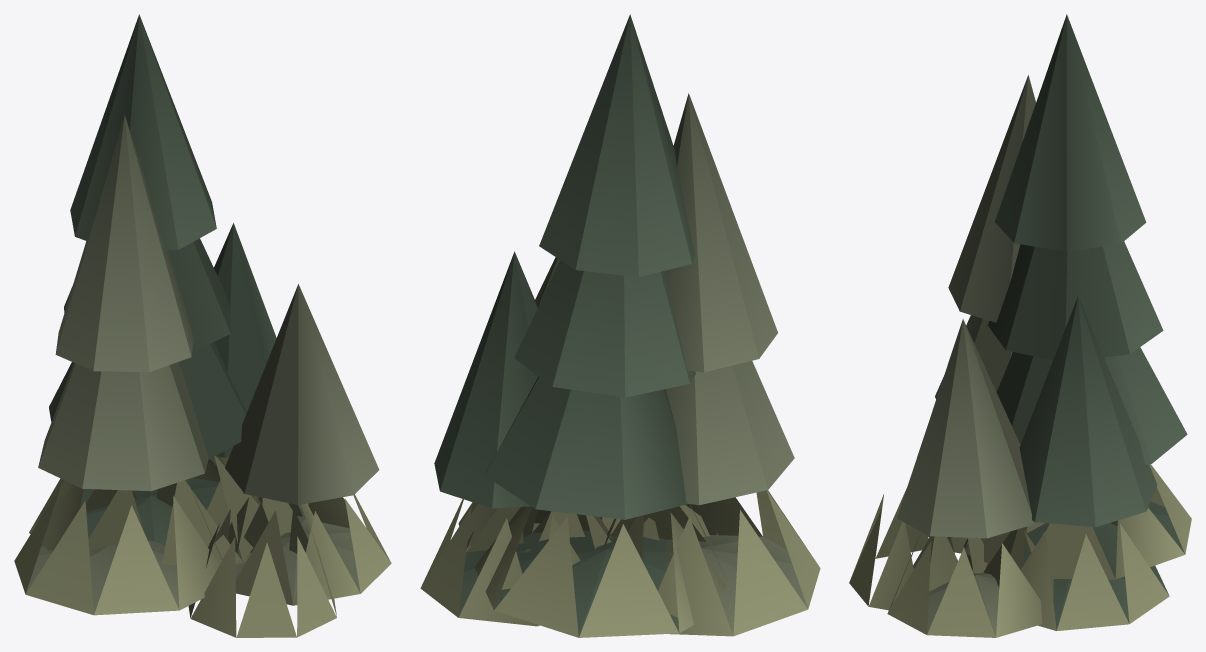
File: pines.lod.glb
3 renders of one model, left to right at view 1: azimuth 30°, elevation 25°; view 2: azimuth 150°, elevation 25°; view 3: azimuth 270°, elevation 25°, orthographic. The views are drawn at different scales.
Parts seen in each view (by area): view 1: pines; view 2: pines; view 3: pines.
Part boxes in pixels (x1,y1,x2,y2): pines: (14, 14, 391, 637); pines: (420, 14, 820, 637); pines: (849, 14, 1191, 637).
Size of the model in its own units: 4.57 by 7.3 by 4.15.
